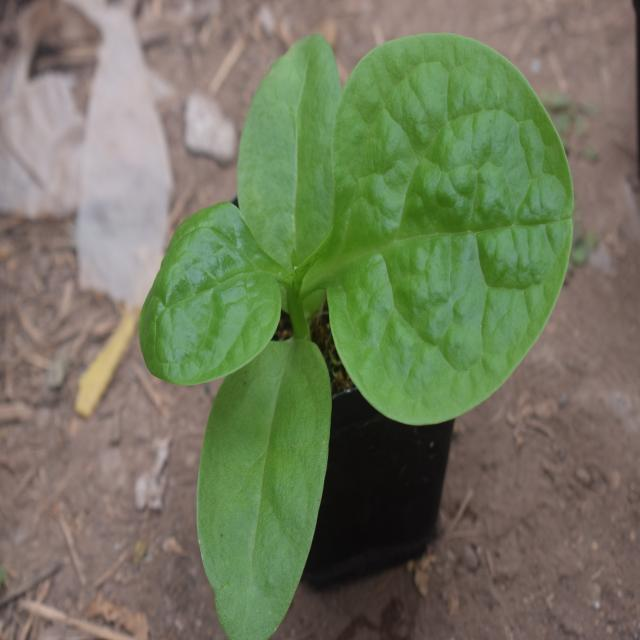Ceylon spinach: (120, 49, 586, 594)
